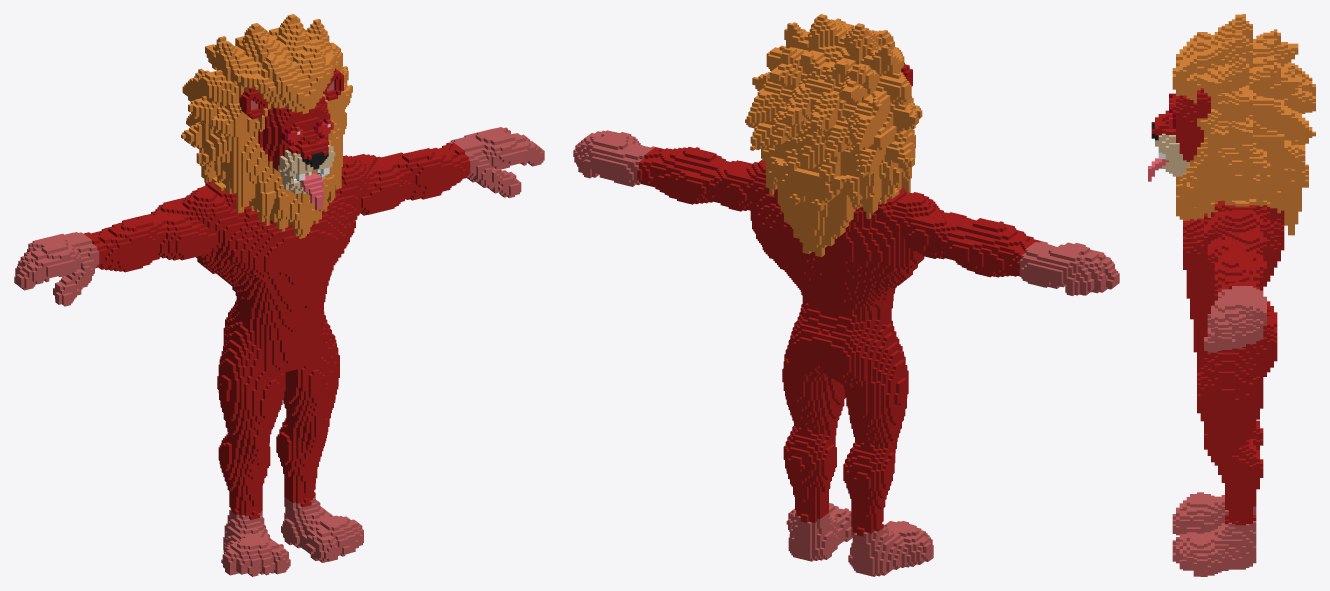
The model's file is 484-yNG3asxD.glb.
The picture shows the model from 3 angles, left to right: view 1: azimuth 30°, elevation 25°; view 2: azimuth 150°, elevation 25°; view 3: azimuth 270°, elevation 25°; orthographic projection. The views are drawn at different scales.
Parts seen in each view (by area): view 1: tongue_out; view 2: tongue_out; view 3: tongue_out.
Part boxes in pixels (bbox=[...]): tongue_out: bbox=[14, 14, 544, 576]; tongue_out: bbox=[573, 14, 1119, 576]; tongue_out: bbox=[1148, 14, 1315, 576].
Size of the model in its own units: 17.2 by 16.5 by 4.8.
Materials: 4 (4 with a texture image).
